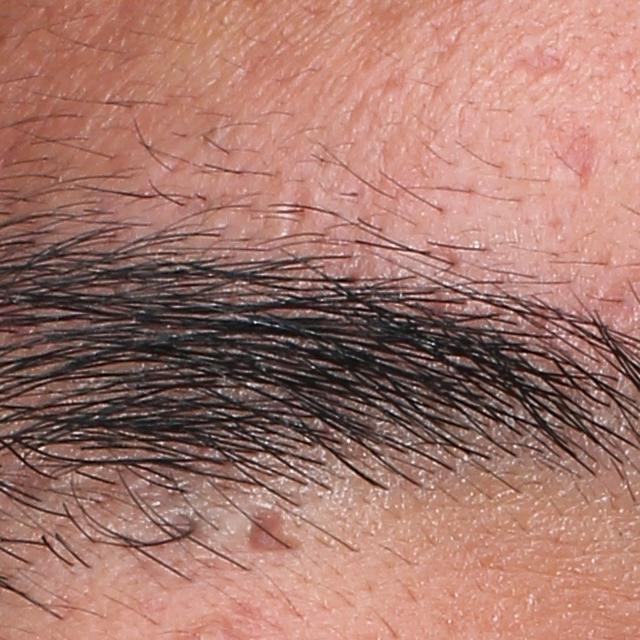atrophic_scar: (244, 505, 307, 559), (559, 124, 603, 192), (505, 47, 567, 90), (283, 174, 319, 237)
